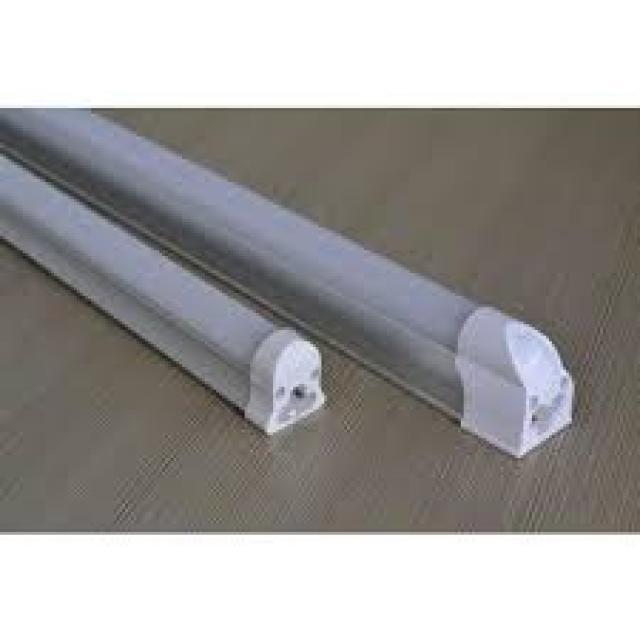tubelight_off: (0, 104, 596, 467), (0, 147, 340, 449)
